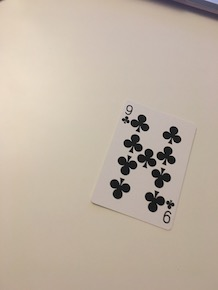NineOfClubs: (91, 98, 200, 231)
